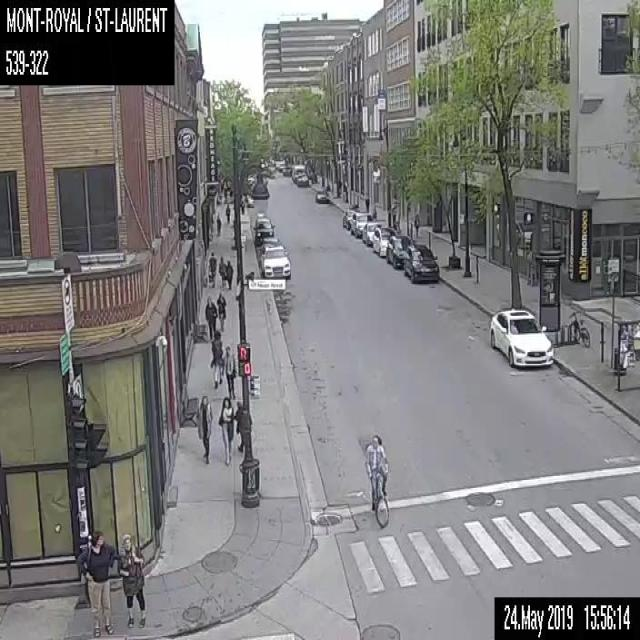cyclist: (363, 432, 389, 527)
pedestrian: (76, 526, 113, 637), (116, 531, 146, 628), (194, 393, 212, 463), (218, 395, 234, 462), (208, 330, 224, 389), (223, 344, 236, 396), (203, 294, 217, 330), (206, 250, 218, 286), (216, 290, 226, 327), (226, 258, 234, 286), (218, 254, 224, 288), (413, 212, 420, 240), (214, 212, 222, 235), (224, 202, 230, 226), (240, 200, 244, 213)
vehicle: (489, 305, 553, 368), (405, 244, 439, 283), (259, 245, 292, 277), (387, 233, 409, 268), (252, 211, 276, 240), (372, 226, 393, 257), (351, 212, 371, 235), (362, 222, 379, 244), (342, 208, 354, 231), (313, 189, 329, 204), (295, 172, 308, 186)
